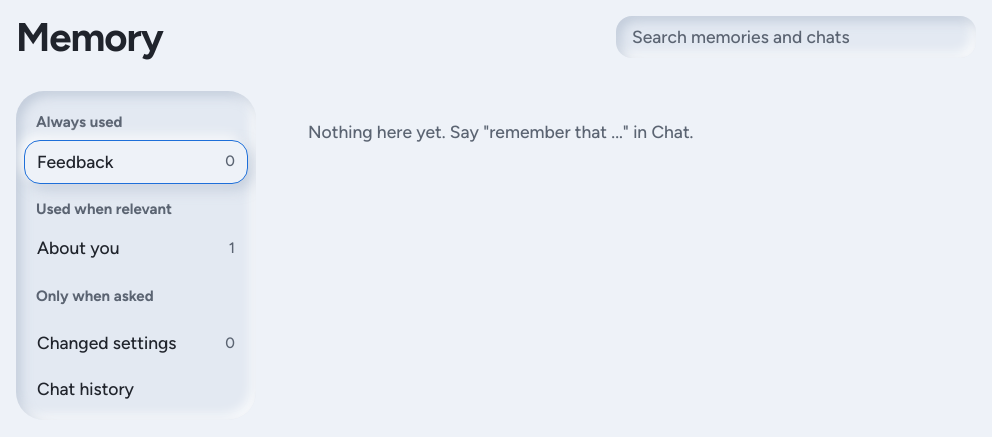
it: Memory page: search and chat history › shows 'No saved conversations.' when history is empty
The width and height of the screenshot is (992, 437).
Click the button "Chat history" at (136, 389), box [24,367,248,412]
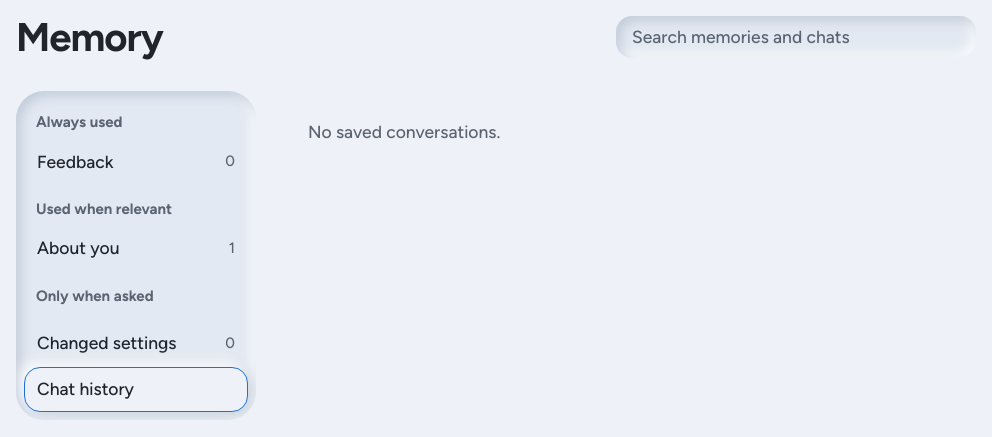
Check: the text "No saved conversations." is shown, box [308,121,500,142]
